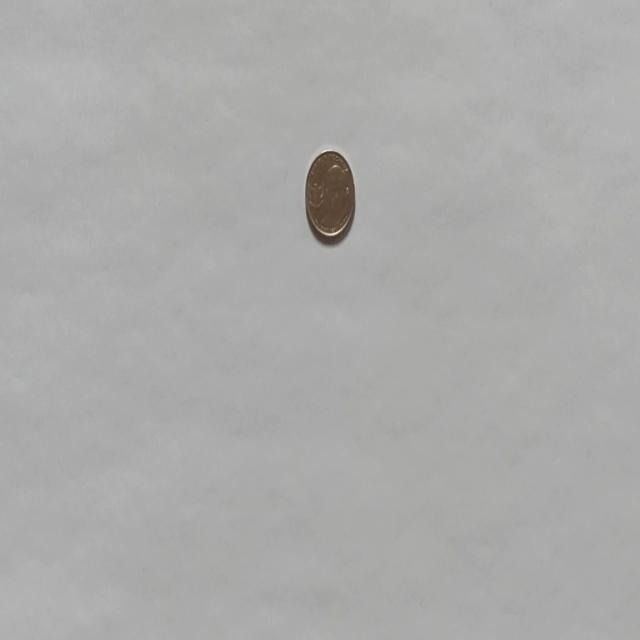seribu rupiah koin: (304, 146, 356, 242)
